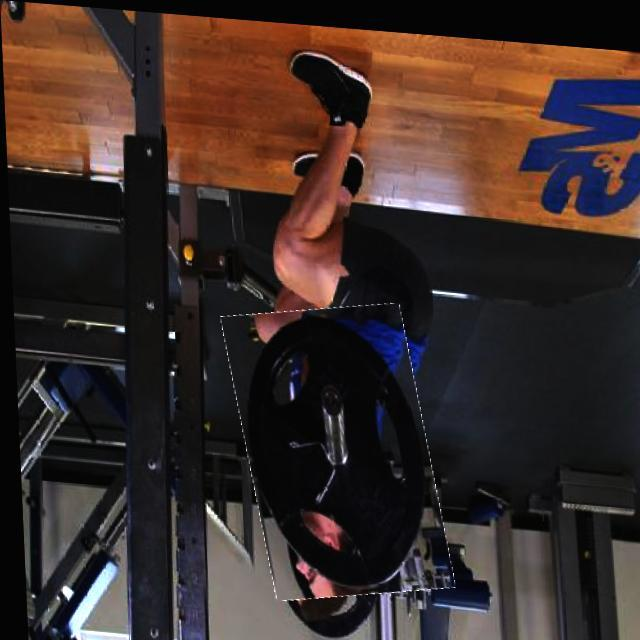barbell: (228, 293, 441, 602)
